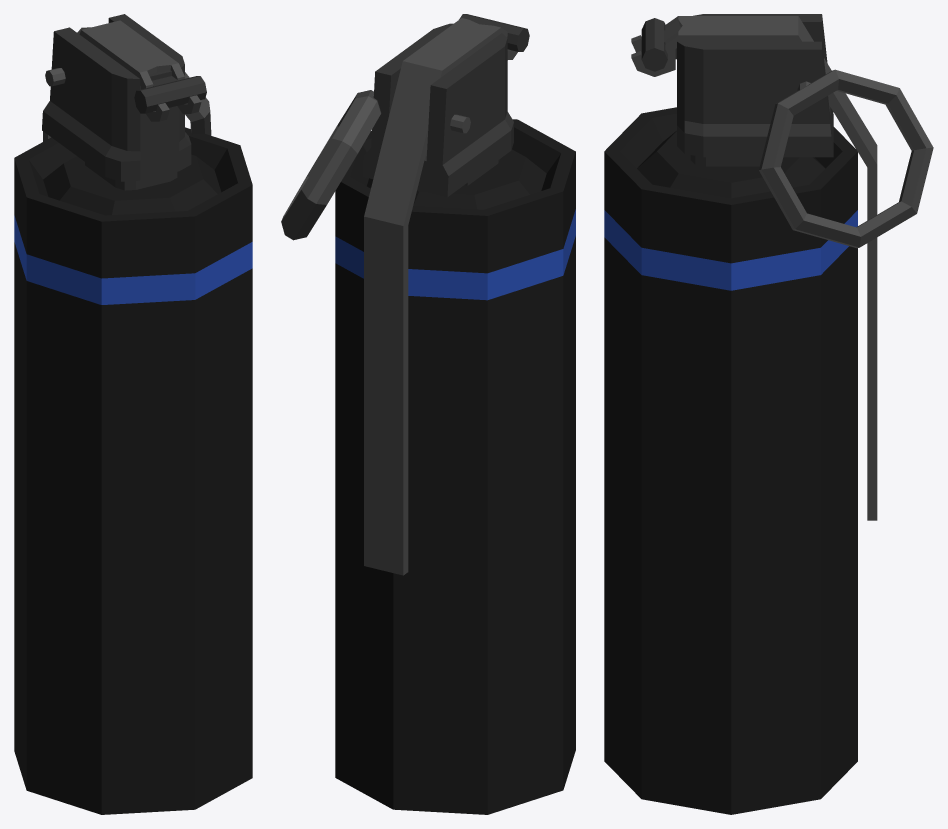
File: smoke-D2S4vLiI.glb
3 renders of one model, left to right at view 1: azimuth 30°, elevation 25°; view 2: azimuth 150°, elevation 25°; view 3: azimuth 270°, elevation 25°, orthographic. The views are drawn at different scales.
Parts seen in each view (by area): view 1: Smoke_West; view 2: Smoke_West; view 3: Smoke_West.
Boxes of the visible parts, bbox=[...] form: Smoke_West: bbox=[14, 14, 252, 814]; Smoke_West: bbox=[281, 14, 575, 814]; Smoke_West: bbox=[604, 14, 933, 814].
Bounding box in the file's own units: 0.0512 × 0.16 × 0.0649.
